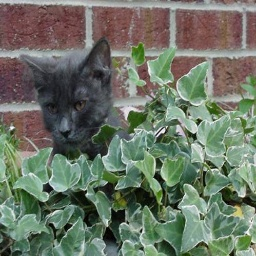cat: (13, 43, 134, 161)
